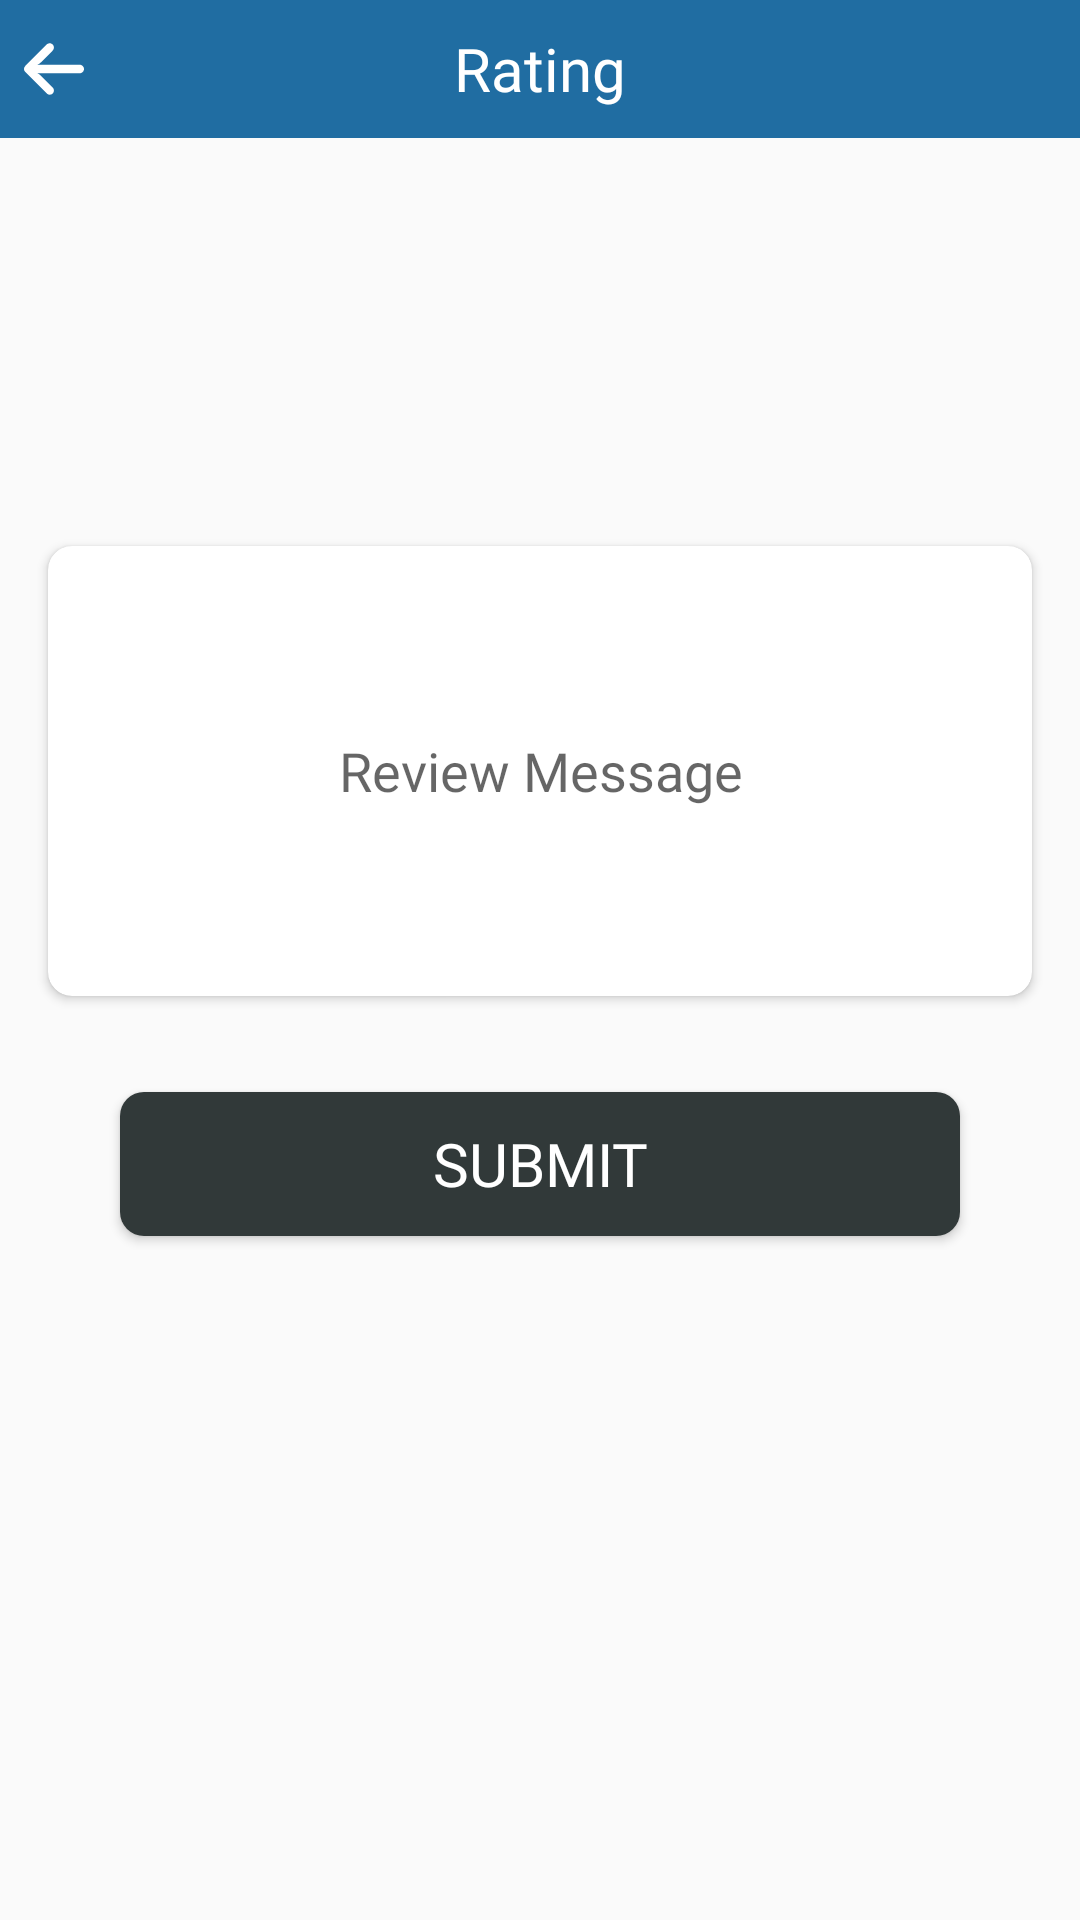

Icons on this 1080 x 1920 Android screen, each with its box as (x1, y1, x2, y2):
back: (24, 43, 84, 95)
